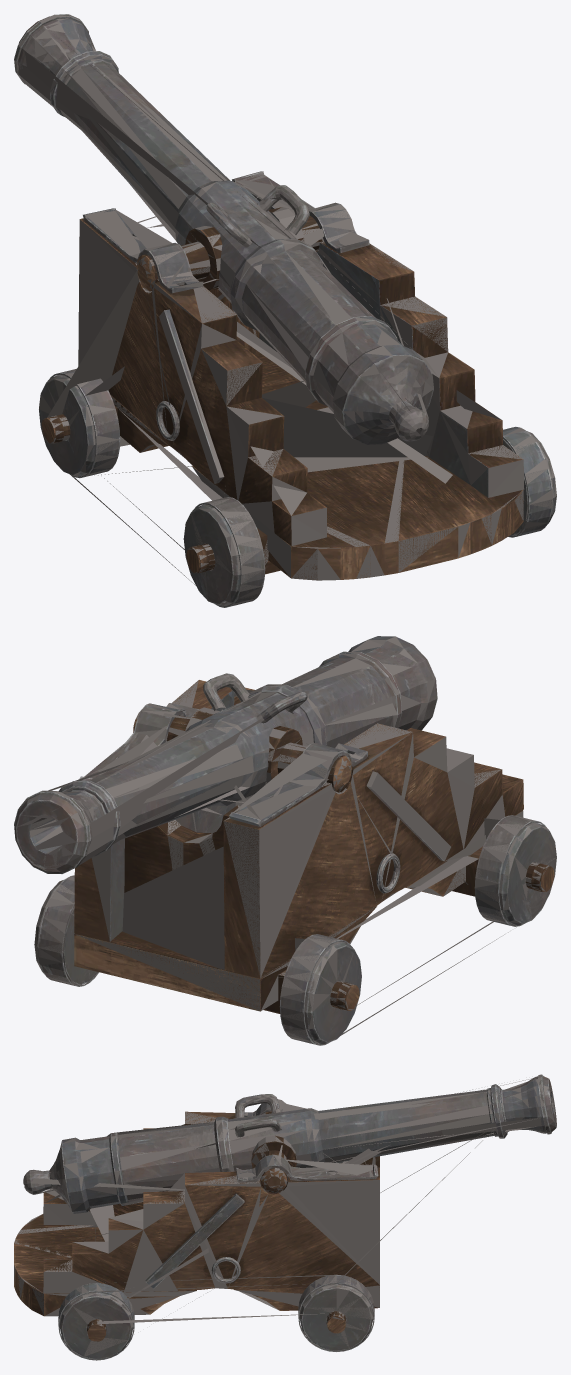
Rendered from Cannon.glb.
3 views of the same model, one above another, from view 1: azimuth 30°, elevation 25°; view 2: azimuth 150°, elevation 25°; view 3: azimuth 270°, elevation 25° (orthographic). The views are drawn at different scales.
Visible parts, largest first — view 1: SM_MERGED_StaticMeshActor_UAID_18C04D9CA3AE0CCB01_2097149640; view 2: SM_MERGED_StaticMeshActor_UAID_18C04D9CA3AE0CCB01_2097149640; view 3: SM_MERGED_StaticMeshActor_UAID_18C04D9CA3AE0CCB01_2097149640.
Part boxes in pixels (x1,y1,x2,y2): SM_MERGED_StaticMeshActor_UAID_18C04D9CA3AE0CCB01_2097149640: (14, 14, 556, 607); SM_MERGED_StaticMeshActor_UAID_18C04D9CA3AE0CCB01_2097149640: (14, 636, 556, 1045); SM_MERGED_StaticMeshActor_UAID_18C04D9CA3AE0CCB01_2097149640: (14, 1074, 556, 1360).
Size of the model in its own units: 0.0132 by 0.0115 by 0.0247.
1 material, 1 textured.
